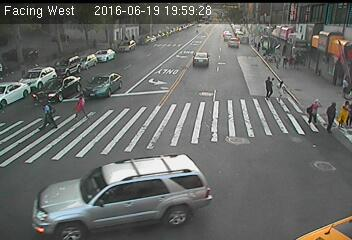neg: (220, 132, 239, 157), (3, 176, 22, 201), (73, 142, 92, 166), (26, 148, 44, 171), (115, 145, 132, 168), (218, 94, 235, 117), (111, 48, 128, 70), (286, 149, 303, 171), (250, 183, 267, 205), (161, 164, 177, 186), (313, 149, 329, 171), (185, 135, 201, 156), (309, 20, 325, 41), (123, 86, 139, 107), (105, 114, 121, 134), (254, 137, 269, 157), (154, 54, 168, 73), (134, 12, 148, 31), (215, 174, 229, 193), (221, 17, 235, 35), (190, 45, 203, 63), (188, 88, 200, 104), (176, 10, 188, 26), (146, 112, 158, 128), (43, 187, 55, 203), (11, 90, 22, 106), (53, 12, 64, 27), (284, 21, 295, 36), (312, 61, 323, 76), (18, 32, 28, 46), (100, 12, 110, 24), (158, 91, 165, 100)
pos: (320, 98, 344, 130), (36, 98, 57, 126), (71, 91, 90, 117), (256, 72, 275, 98), (302, 96, 321, 122), (270, 77, 288, 101), (255, 40, 265, 53)
